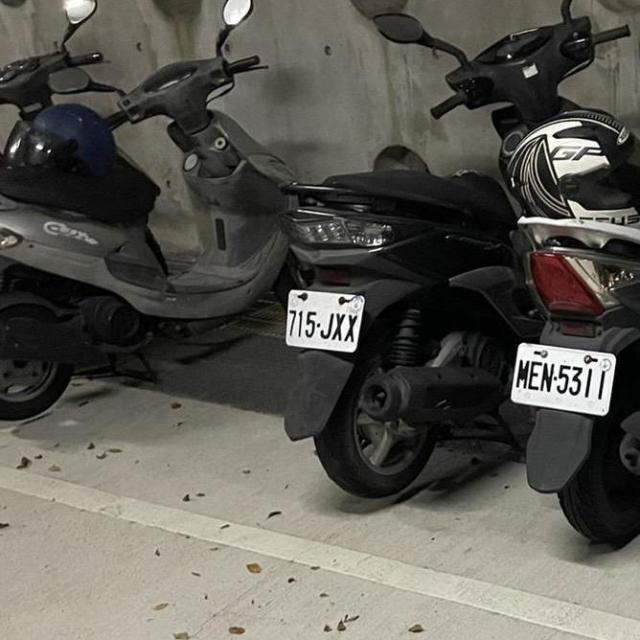W: (505, 336, 620, 419), (279, 284, 371, 354)
